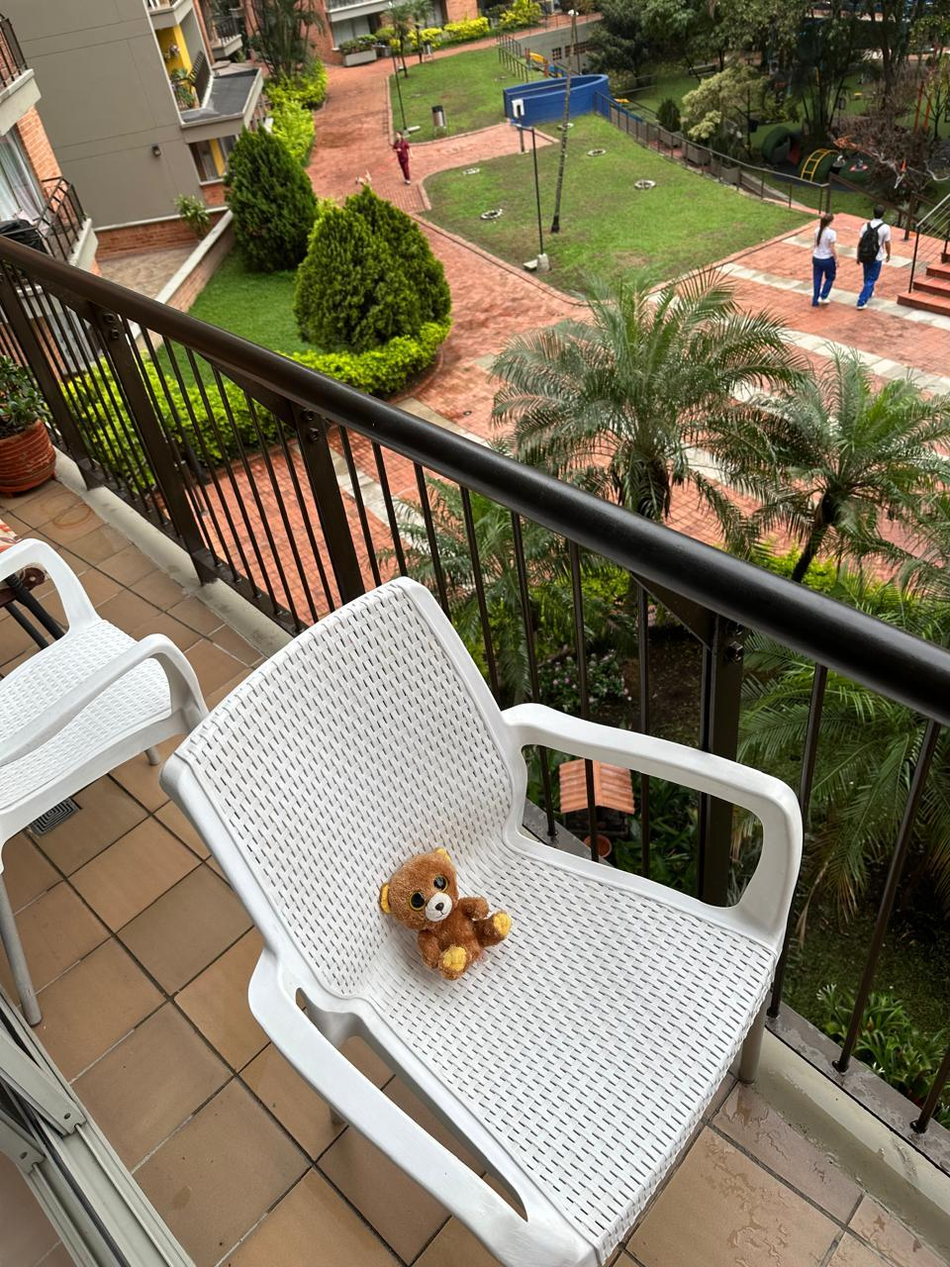peluche_sebastian: (376, 851, 512, 982)
